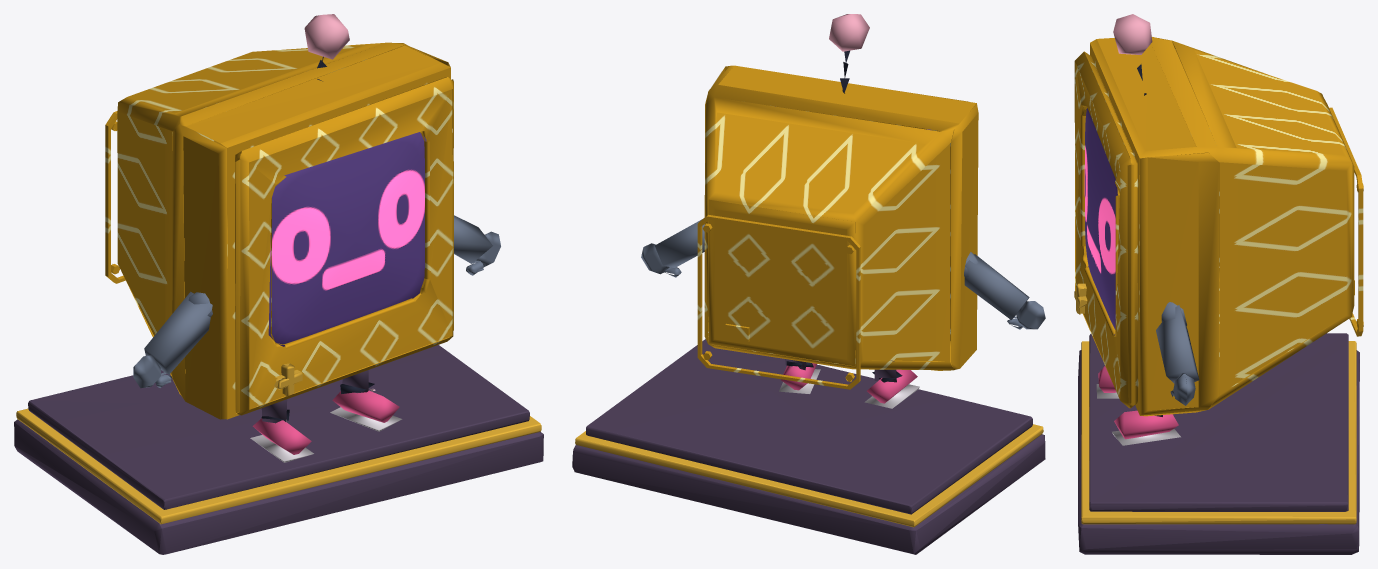
File: prime.paint.host-gold.lod1.glb
3 renders of one model, left to right at view 1: azimuth 30°, elevation 25°; view 2: azimuth 150°, elevation 25°; view 3: azimuth 270°, elevation 25°, orthographic. The views are drawn at different scales.
Parts seen in each view (by area): view 1: emi_teacup_mesh, display_top, stand_identity_face, display_base, brass_band; view 2: emi_teacup_mesh, display_top, display_base, brass_band; view 3: emi_teacup_mesh, display_top, display_base, brass_band, stand_identity_face.
Part boxes in pixels (x1,y1,x2,y2): emi_teacup_mesh: [105, 14, 500, 462]; display_top: [28, 345, 529, 509]; stand_identity_face: [268, 132, 426, 346]; display_base: [14, 419, 543, 554]; brass_band: [16, 408, 541, 524]; emi_teacup_mesh: [641, 14, 1045, 408]; display_top: [586, 339, 1032, 514]; display_base: [572, 434, 1045, 554]; brass_band: [575, 424, 1043, 527]; emi_teacup_mesh: [1074, 14, 1363, 445]; display_top: [1089, 333, 1348, 511]; display_base: [1078, 350, 1359, 554]; brass_band: [1081, 341, 1356, 524]; stand_identity_face: [1084, 108, 1117, 334].
Size of the model in its own units: 0.6773 by 0.7519 by 0.4359.
Materials: 4 (3 with a texture image).
